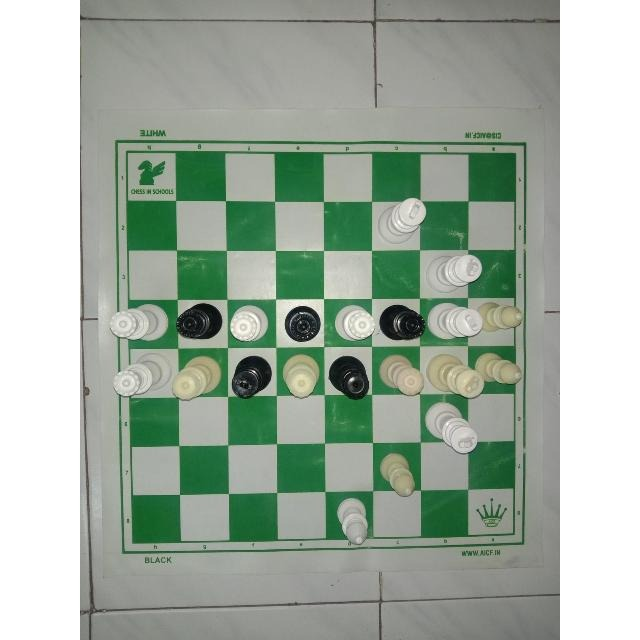black-king: (228, 351, 274, 401)
black-queen: (174, 299, 226, 347), (325, 354, 372, 404), (378, 299, 424, 344), (282, 301, 321, 344)
white-bishop: (376, 450, 418, 498), (474, 348, 523, 388), (332, 494, 371, 544), (475, 298, 526, 336)
white-king: (423, 400, 479, 458), (425, 350, 483, 398), (377, 194, 428, 246), (425, 250, 483, 294), (427, 298, 481, 342)
white-queen: (104, 350, 172, 399), (107, 300, 173, 344), (174, 350, 226, 399), (377, 350, 427, 399), (281, 352, 323, 400), (227, 302, 271, 346), (331, 299, 375, 343)
